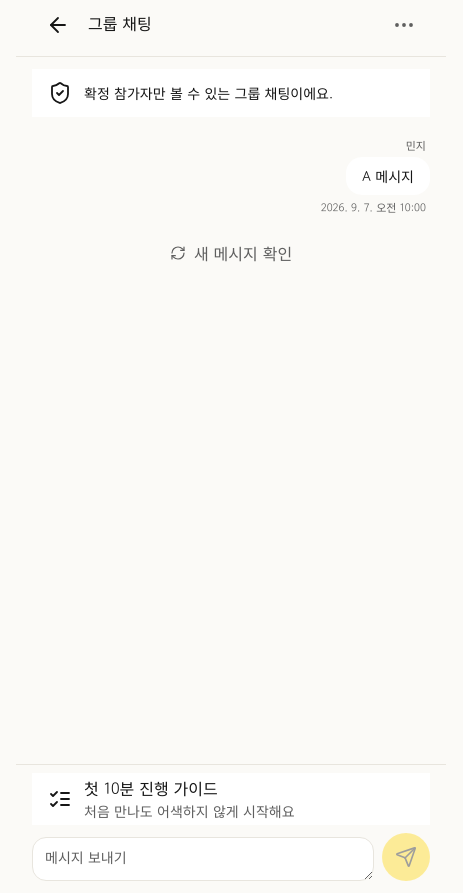
it: MeetupChatPage API behavior › keeps a message acknowledged while a full refresh is loading an older page
The image size is (463, 893).
(page scrolled)
Check: the text "A 메시지" is shown, box [346,157,430,195]
Type "새로 보낸 메시지" into the text box named "메시지 입력" at (203, 859), box [32,837,374,881]
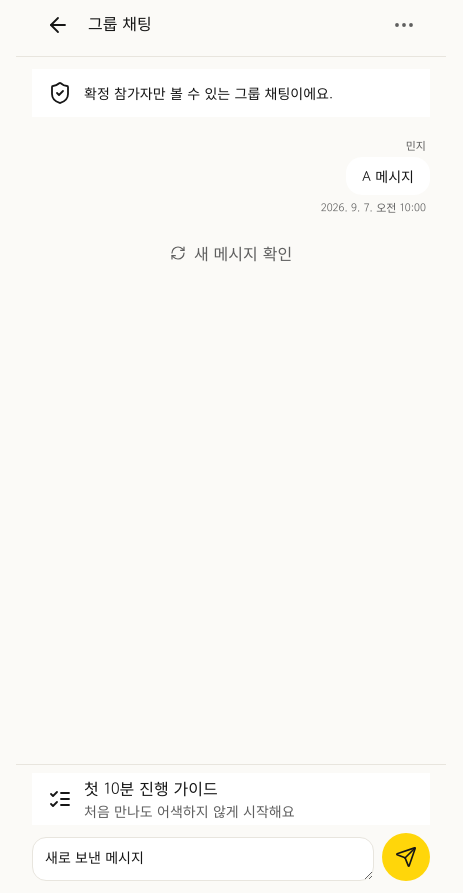
Submit the form named "메시지 보내기", box [32,833,430,881]
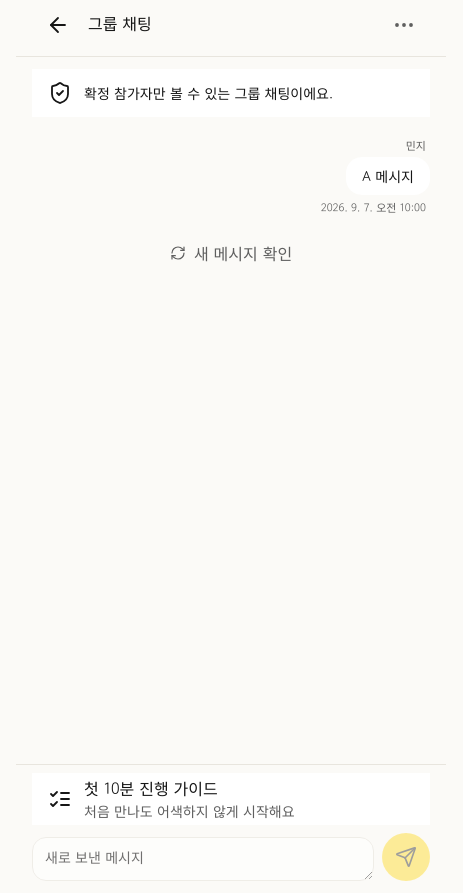
Click the button "새 메시지 확인" at (231, 253), box [158,231,304,275]
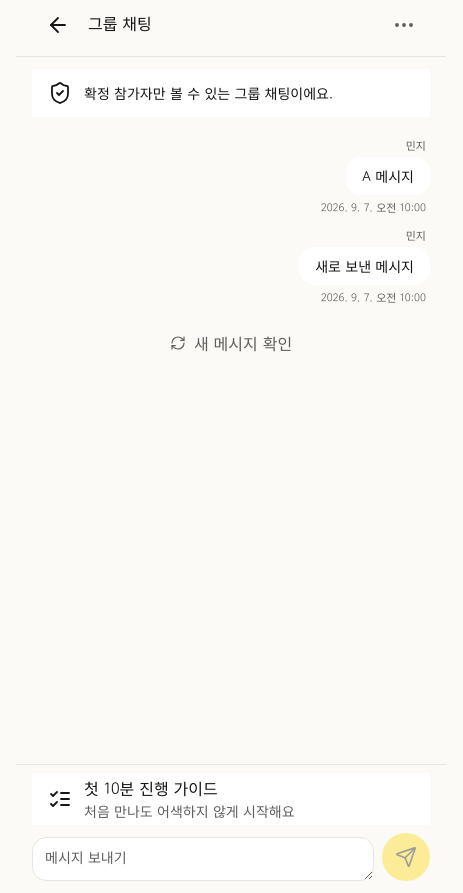
Check: the text "새로 보낸 메시지" is shown once, box [299,247,430,285]
